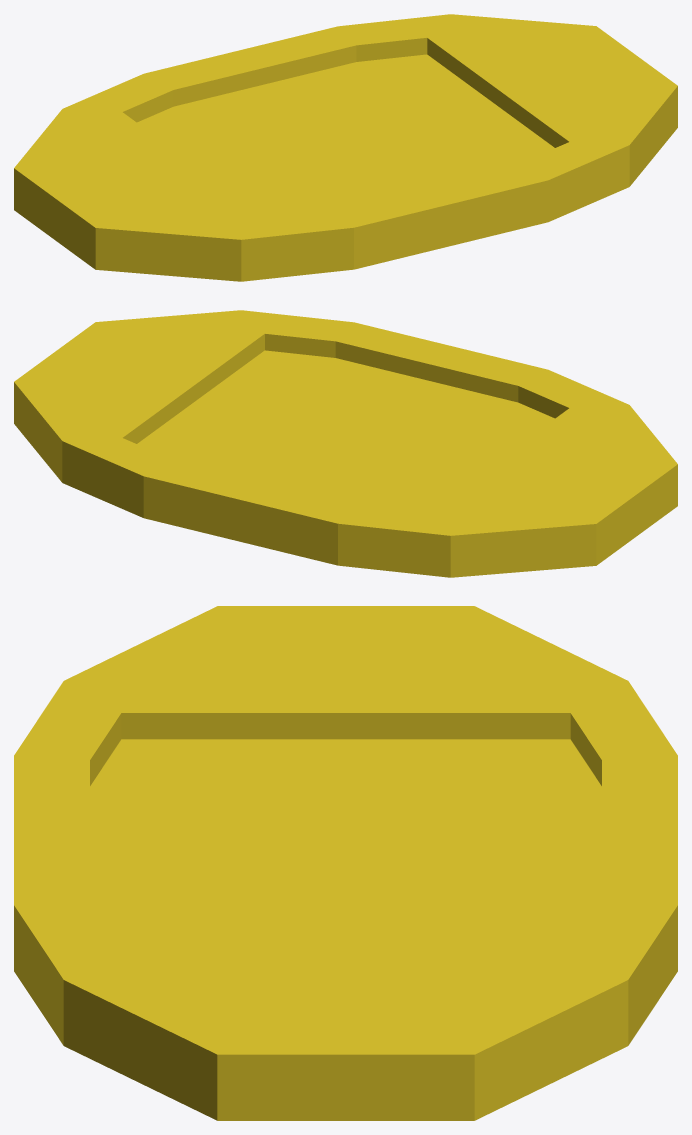
Rendered from table.fbx.
3 views of the same model, one above another, from view 1: azimuth 30°, elevation 25°; view 2: azimuth 150°, elevation 25°; view 3: azimuth 270°, elevation 25° (orthographic). The views are drawn at different scales.
Visible parts, largest first — view 1: Cube; view 2: Cube; view 3: Cube.
Boxes of the visible parts, left/top/right/bottom form: Cube: left=14, top=14, right=677, bottom=281; Cube: left=14, top=310, right=677, bottom=577; Cube: left=14, top=606, right=677, bottom=1120.
Bounding box in the file's own units: 320 × 21.99 × 200.
